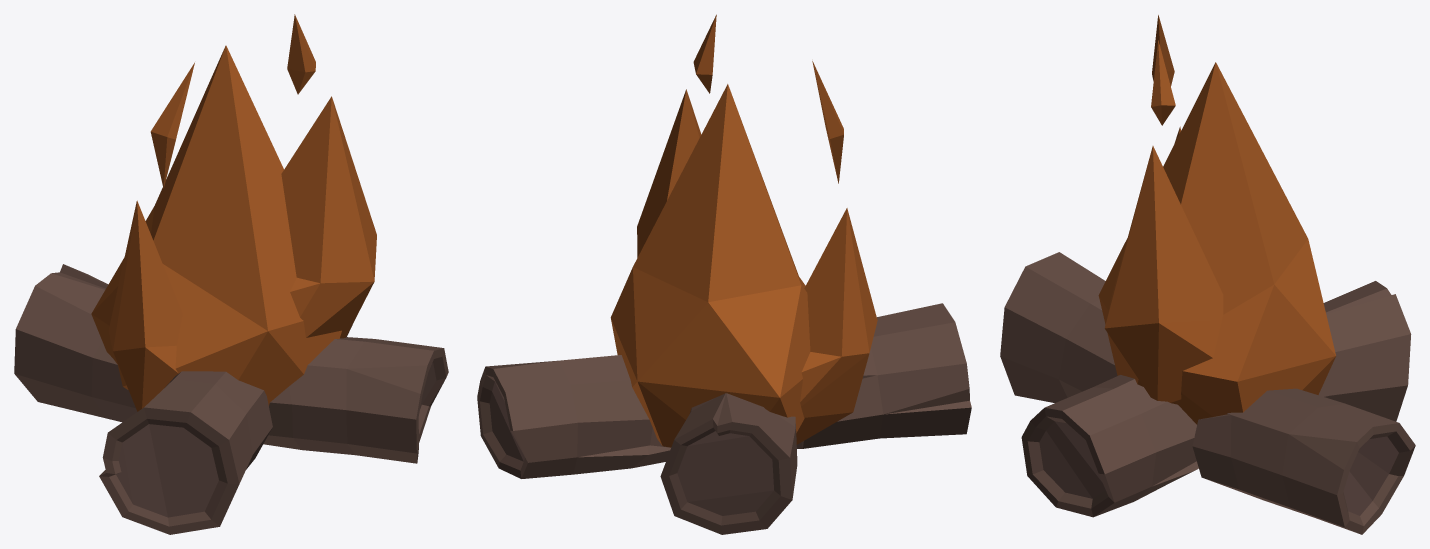
The model's file is Bonfire_Fire.obj.
The picture shows the model from 3 angles, left to right: view 1: azimuth 30°, elevation 25°; view 2: azimuth 150°, elevation 25°; view 3: azimuth 270°, elevation 25°; orthographic projection. The views are drawn at different scales.
Visible parts, largest first — view 1: Bonfire_Fire_Cylinder.009; view 2: Bonfire_Fire_Cylinder.009; view 3: Bonfire_Fire_Cylinder.009.
Boxes of the visible parts, box(x1,y1,x2,y2) form: Bonfire_Fire_Cylinder.009: box(14, 14, 448, 534); Bonfire_Fire_Cylinder.009: box(477, 14, 971, 534); Bonfire_Fire_Cylinder.009: box(1000, 15, 1415, 534).
Bounding box in the file's own units: 2.18 × 2.31 × 1.98.
